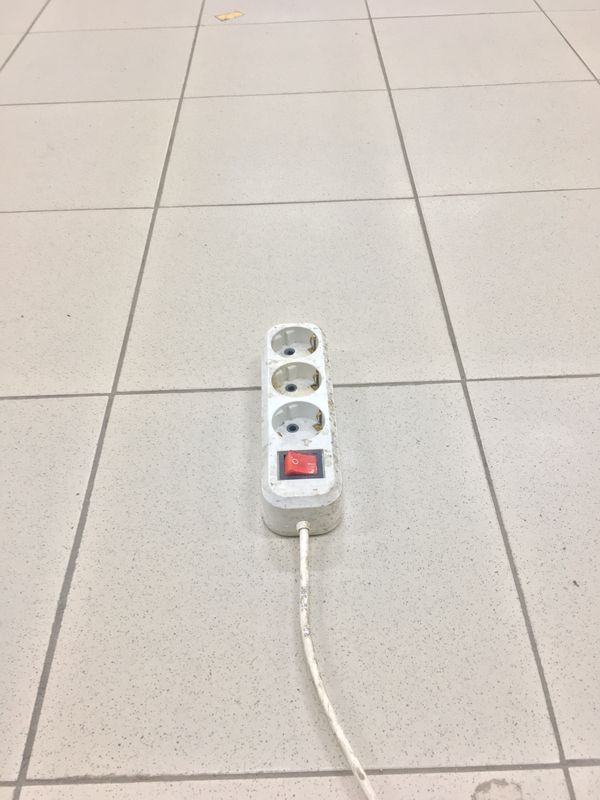socket: (252, 321, 352, 545)
